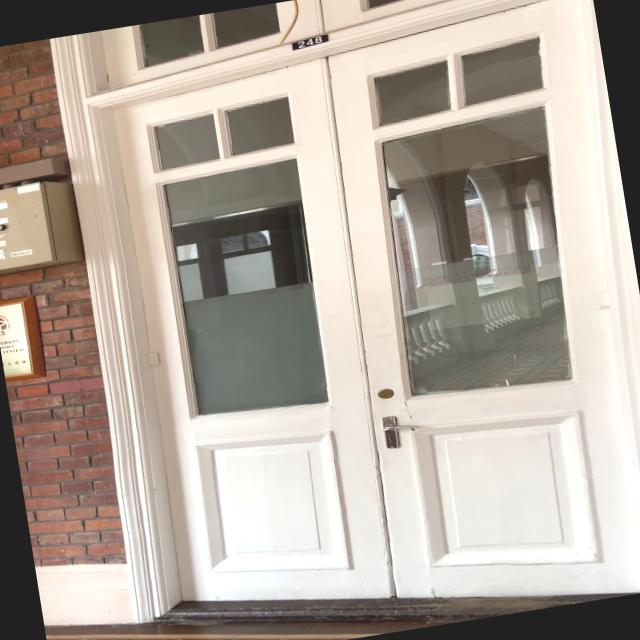room248: (291, 31, 334, 53)
